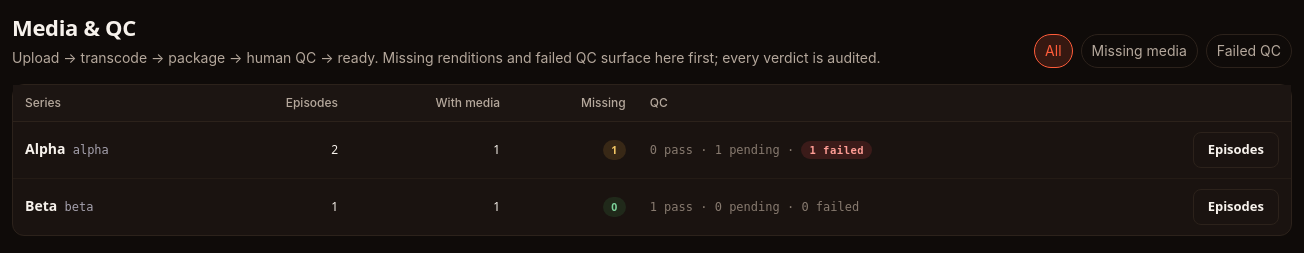
Media & QC › lists series with media gaps and QC counts; filters narrow the board
Expected: the text "Alpha" is shown, [25,139,66,158]
Expected: the text "Beta" is shown, [25,196,57,215]
Click the button "Missing media" at (1139, 51), box [1081,34,1198,68]
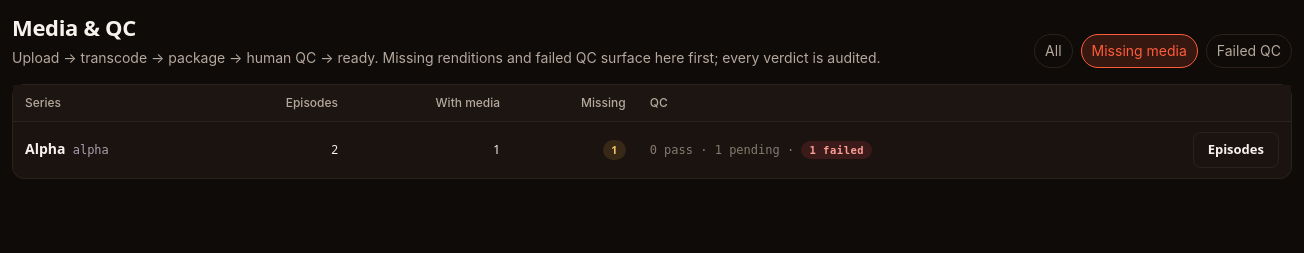
Expected: the text "Beta" is gone
Click the button "Failed QC" at (1249, 51), box [1206,34,1292,68]
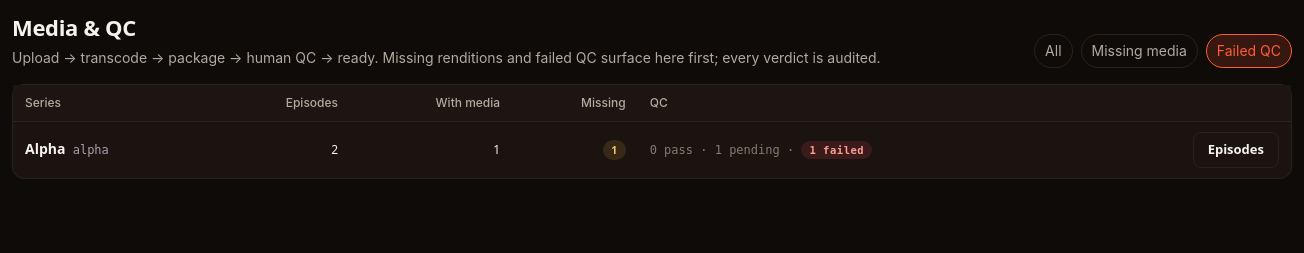
Expected: the text "Alpha" is shown, [25,139,66,158]
Expected: the text "Beta" is not shown
Click the button "All" at (1053, 51), box [1034,34,1073,68]
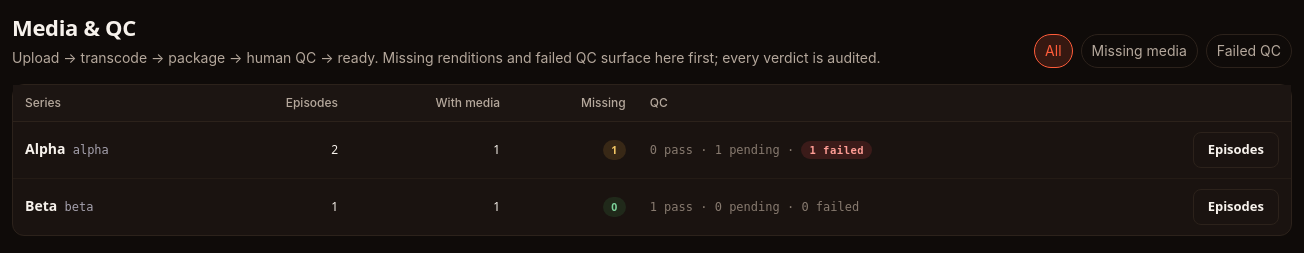
Expected: the text "Beta" is shown, [25,196,57,215]
